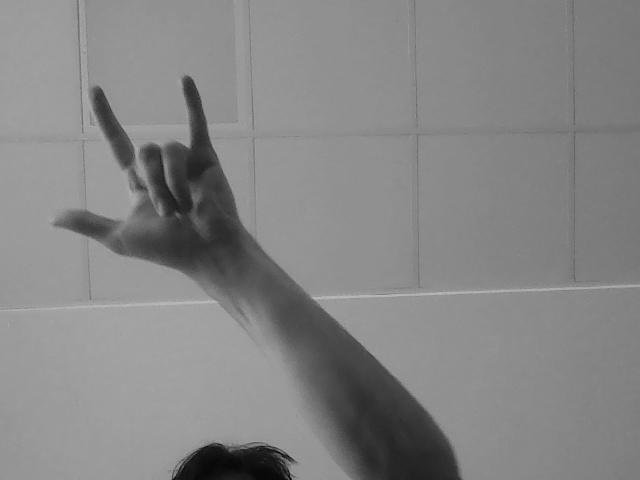I_Love_You: (38, 80, 272, 248)
